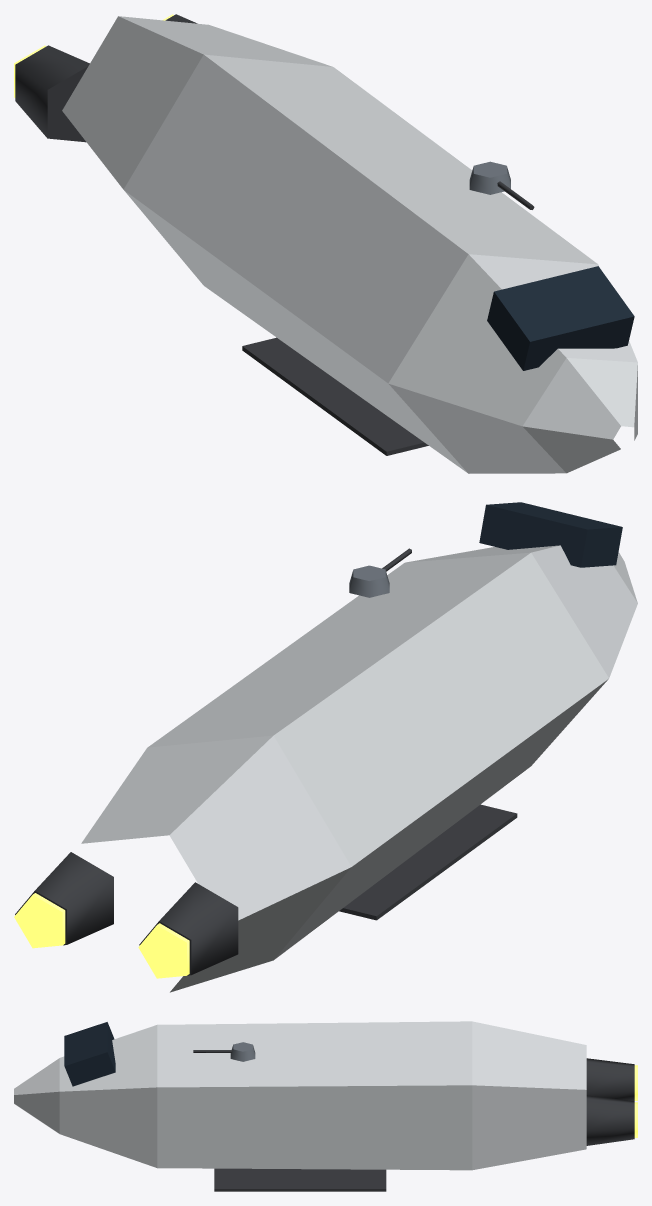
Rendered from space_ship_transport_mk2_lod1.glb.
3 renders of one model, top to bottom at view 1: azimuth 30°, elevation 25°; view 2: azimuth 150°, elevation 25°; view 3: azimuth 270°, elevation 25°, orthographic. The views are drawn at different scales.
Visible parts, largest first — view 1: body, hangar_door, engine_1, turret_0; view 2: body, engine_1, engine_0, hangar_door, turret_0; view 3: body, hangar_door, engine_0, engine_1, turret_0.
Boxes of the visible parts, box(x1,y1,x2,y2) form: body: box(62, 16, 637, 473); hangar_door: box(242, 337, 428, 455); engine_1: box(14, 45, 89, 142); turret_0: box(469, 161, 534, 209); body: box(81, 502, 637, 992); engine_1: box(138, 882, 238, 978); engine_0: box(14, 852, 113, 948); hangar_door: box(339, 804, 517, 920); turret_0: box(349, 548, 411, 597); body: box(14, 1021, 586, 1170); hangar_door: box(214, 1168, 386, 1191); engine_0: box(586, 1095, 637, 1145); engine_1: box(586, 1058, 637, 1101); turret_0: box(193, 1042, 255, 1061).
Bounding box in the file's own units: 5.31 × 5.49 × 21.96.
